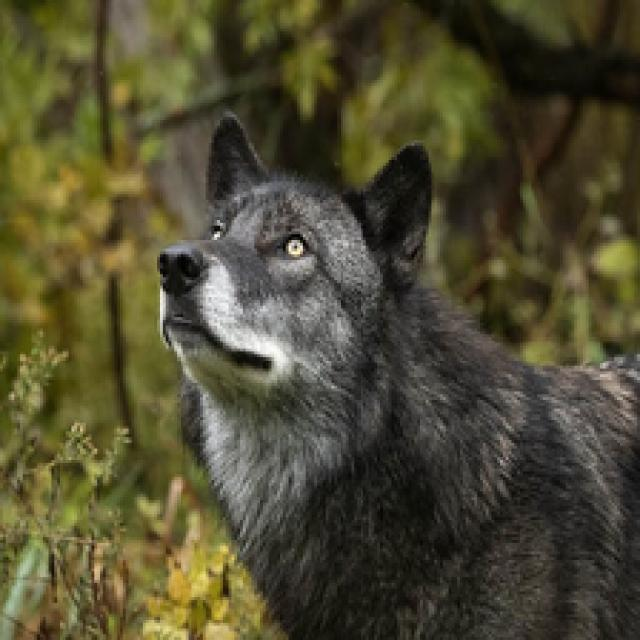wolf: (129, 96, 639, 640)
